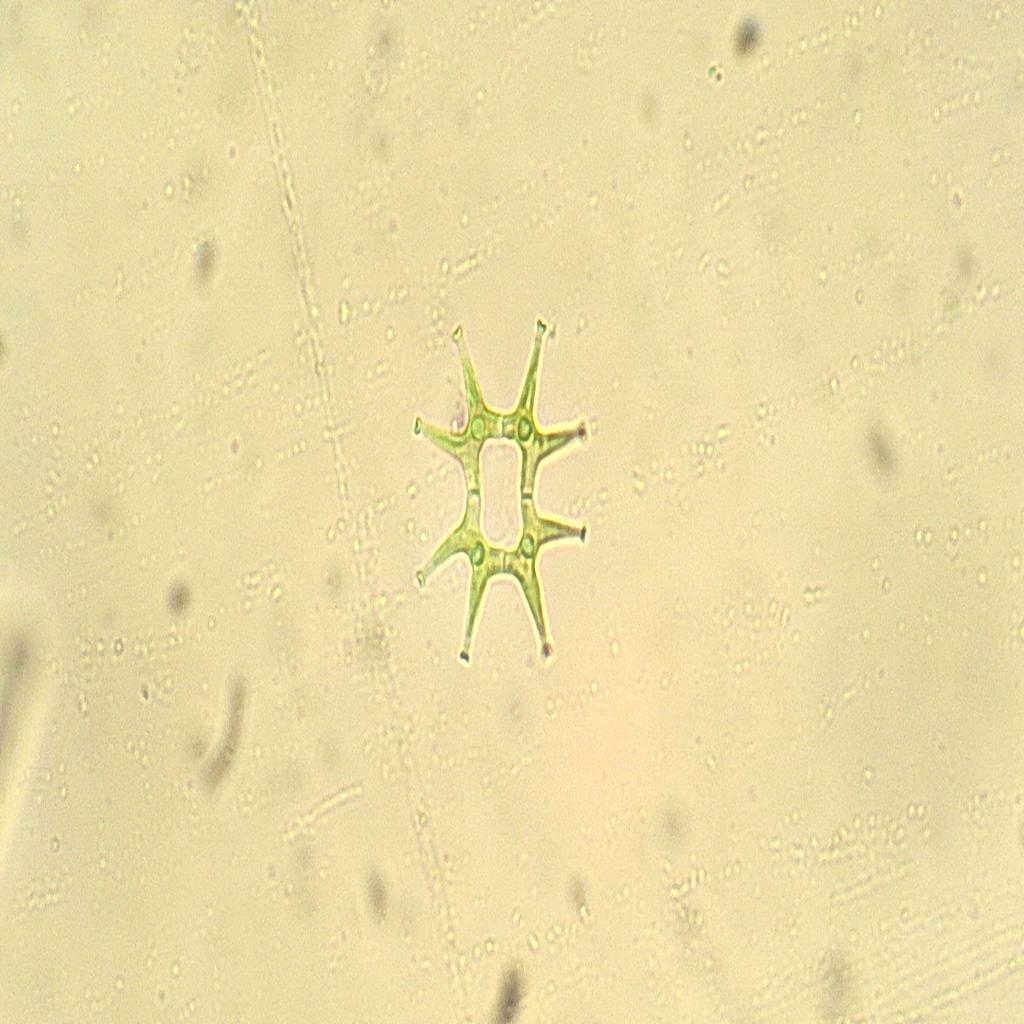Pediastrum_75O: (402, 300, 600, 686)
